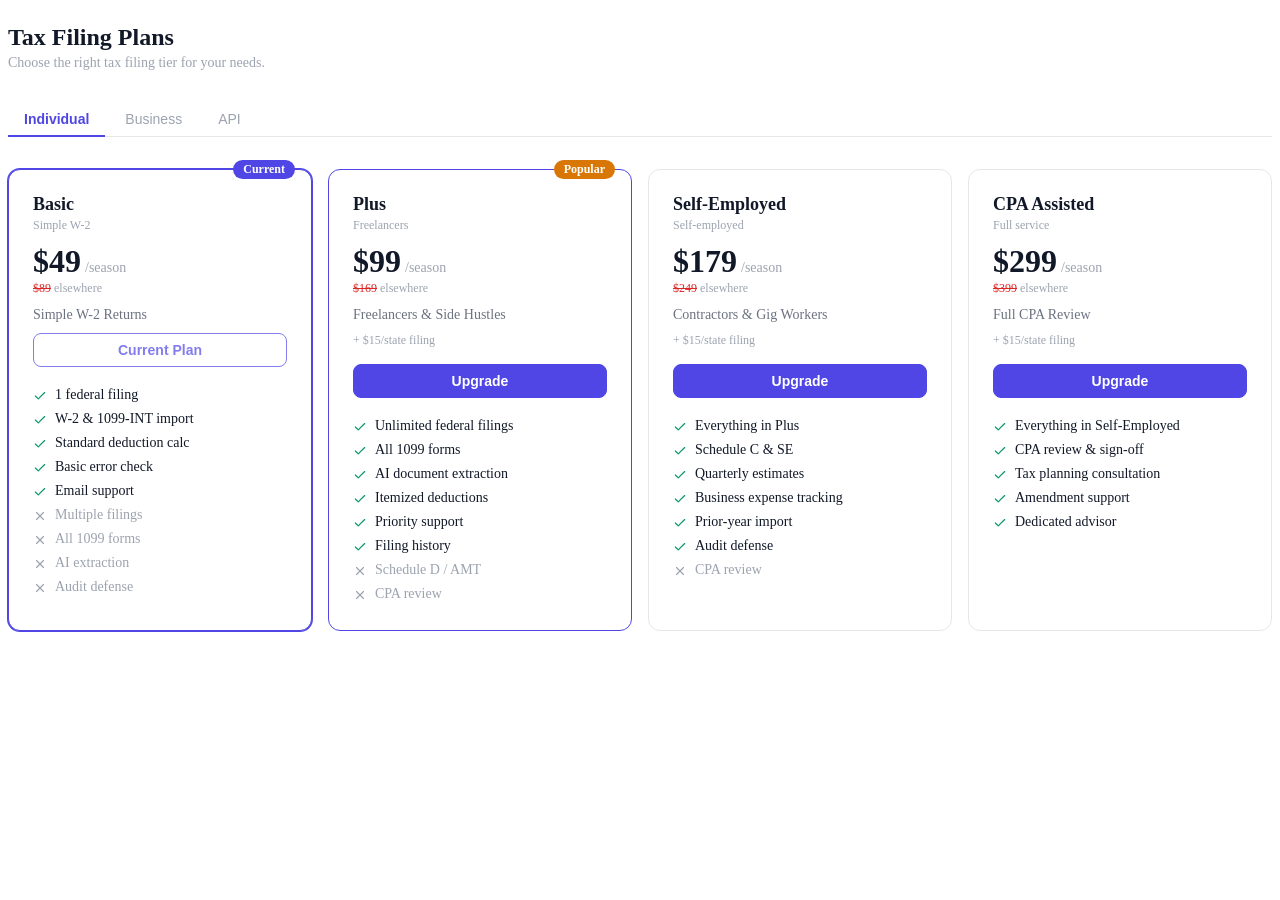
Test: TaxPricingPage › opens confirmation modal on plan click
The image size is (1280, 900).
Click the button "Upgrade" below "Freelancers & Side Hustles". click: (480, 381)
box: [353,364,607,398]
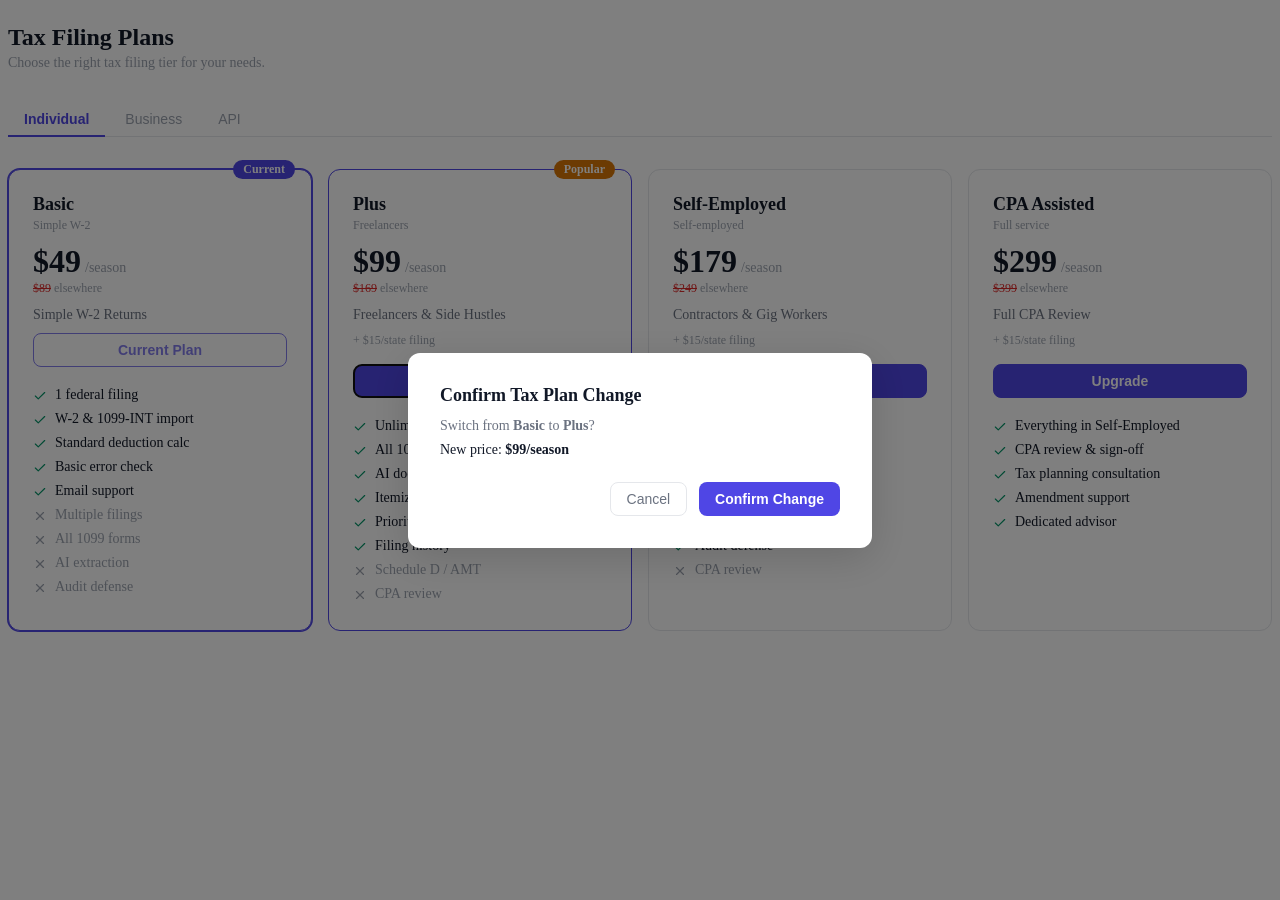
expect the heading "Confirm Tax Plan Change" is shown: met, box [440,384,642,404]
